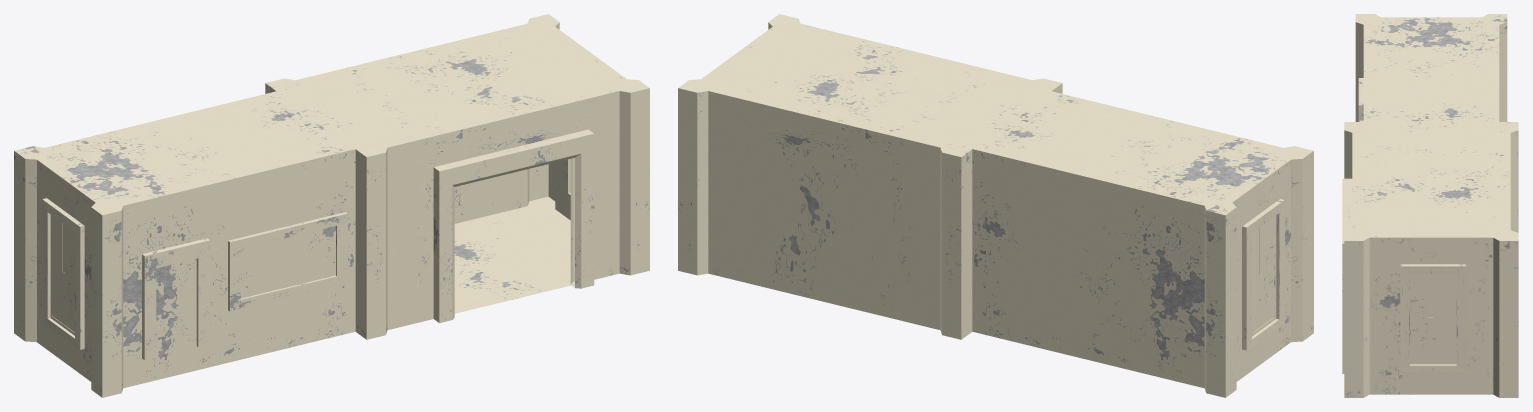
The model's file is buildig.004_peeling_paint_(concrete)_(white)_0_lev3.glb.
The picture shows the model from 3 angles, left to right: view 1: azimuth 30°, elevation 25°; view 2: azimuth 150°, elevation 25°; view 3: azimuth 270°, elevation 25°; orthographic projection. The views are drawn at different scales.
Visible parts, largest first — view 1: buildig.004_peeling_paint_(concrete)_(white)_0_lev3; view 2: buildig.004_peeling_paint_(concrete)_(white)_0_lev3; view 3: buildig.004_peeling_paint_(concrete)_(white)_0_lev3.
Part boxes in pixels (x1,y1,x2,y2): buildig.004_peeling_paint_(concrete)_(white)_0_lev3: [14, 14, 649, 397]; buildig.004_peeling_paint_(concrete)_(white)_0_lev3: [678, 14, 1313, 397]; buildig.004_peeling_paint_(concrete)_(white)_0_lev3: [1342, 14, 1518, 397].
Bounding box in the file's own units: 3.77 × 1.22 × 1.24.
1 material, 1 textured.
